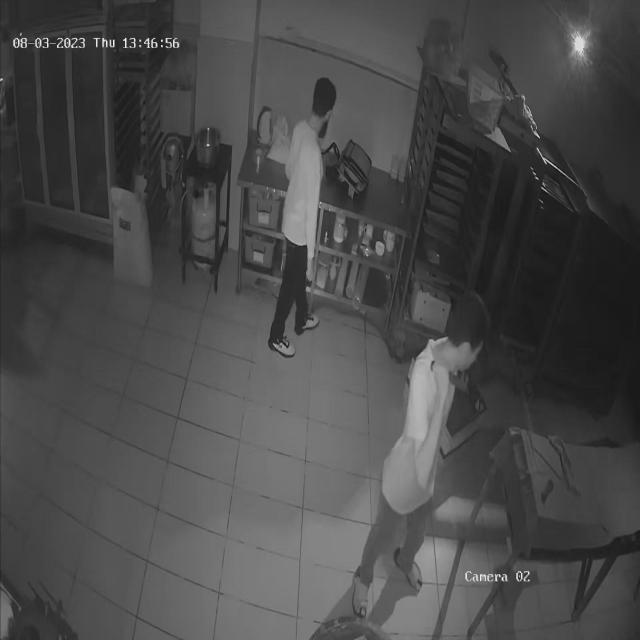Knife: (428, 353, 472, 396)
